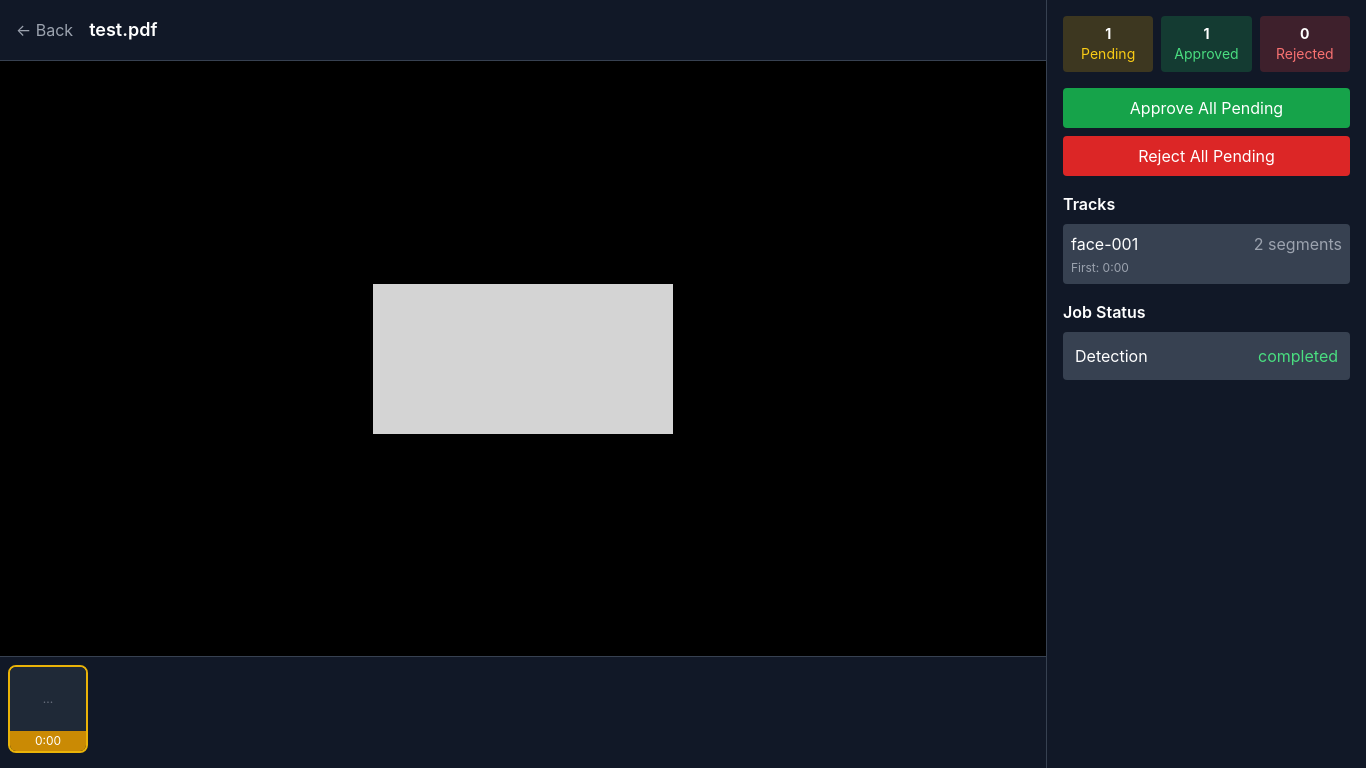
Test: VideoReviewPage › Bulk Actions › should open approve modal when Approve All Pending is clicked
Click the button "Approve All Pending" at (1206, 108), box [1063,88,1350,128]
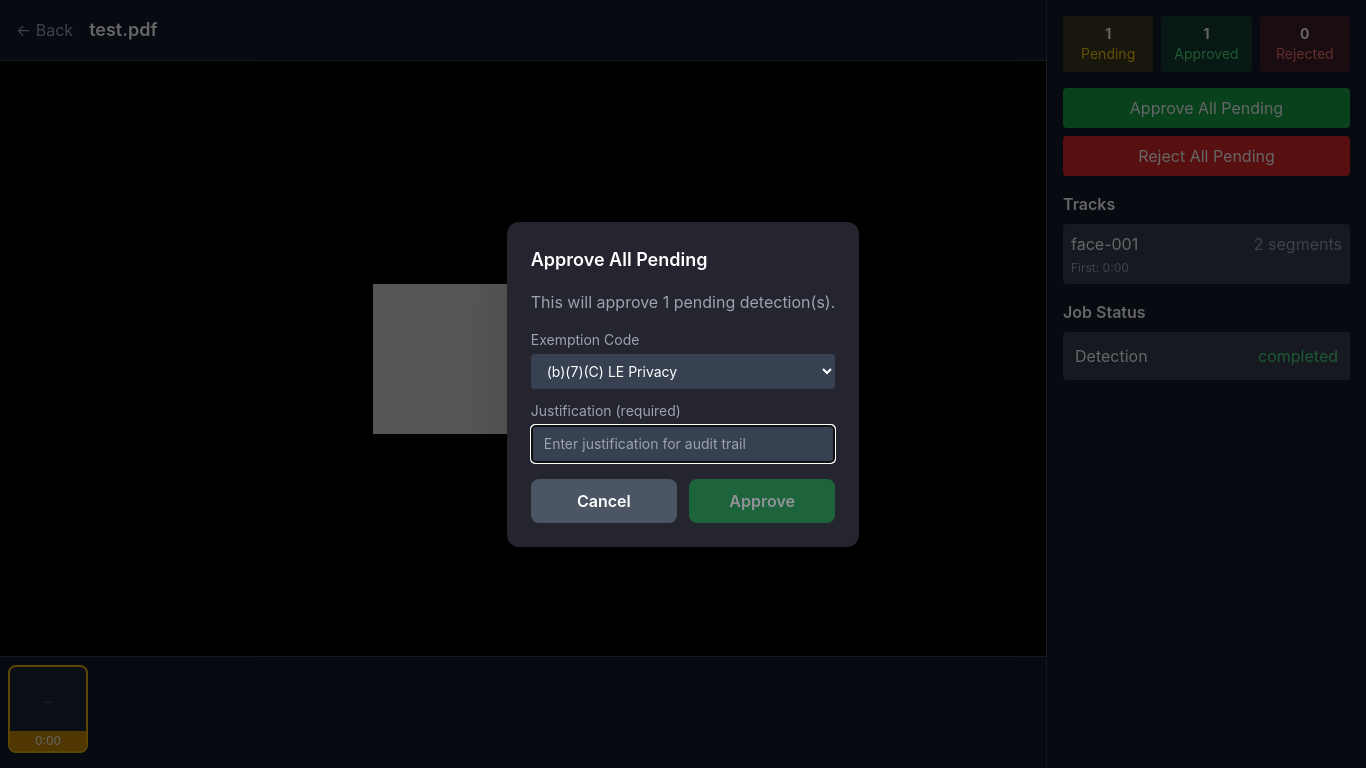
Check: the text "Exemption Code" is shown, box [531,330,639,348]
Check: the text "Justification (required)" is shown, box [531,402,681,418]
